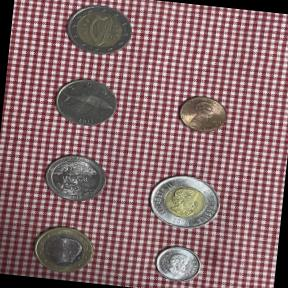coin: (53, 0, 148, 68), (45, 70, 130, 140), (143, 168, 228, 235), (23, 216, 106, 284), (35, 145, 119, 212), (172, 90, 236, 141), (148, 240, 209, 288)
